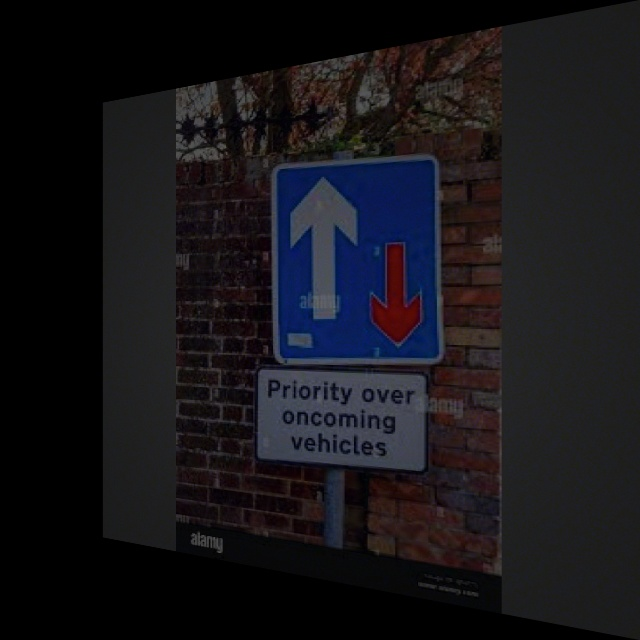Priority_for_Oncoming_Traffic: (279, 152, 440, 361)
